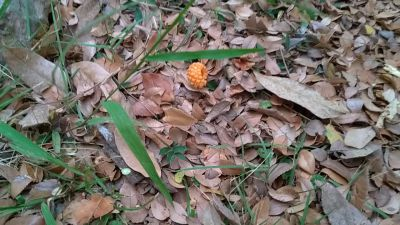eggs: (184, 60, 210, 88)
